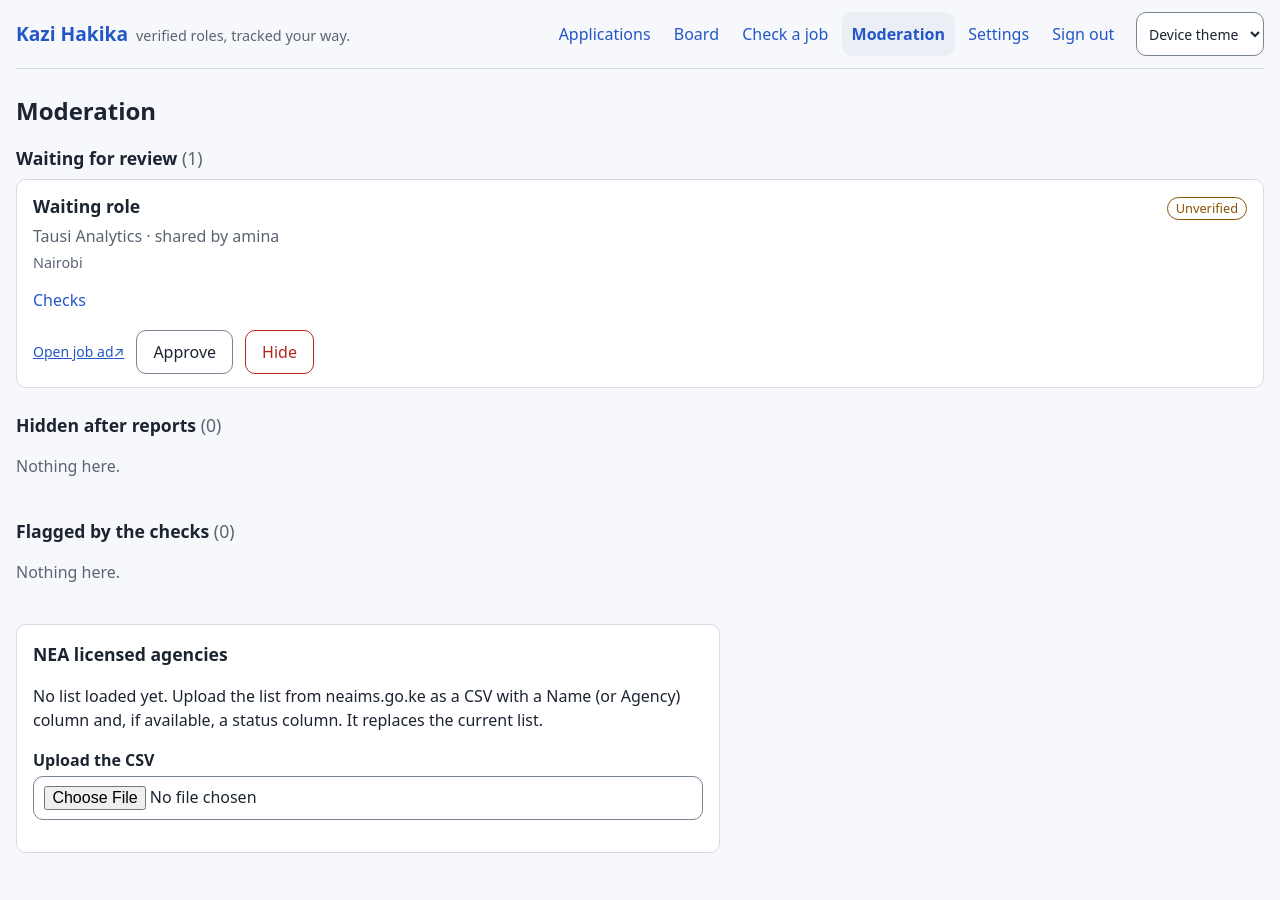
Test case: moderation › lets an admin approve a waiting post
Expected: the link "Moderation" is shown, [842, 12, 955, 56]
What coordinates should you click on to do the following:
click the button "Approve"
I would click on:
 (185, 352)
Its box is [136, 330, 233, 374].
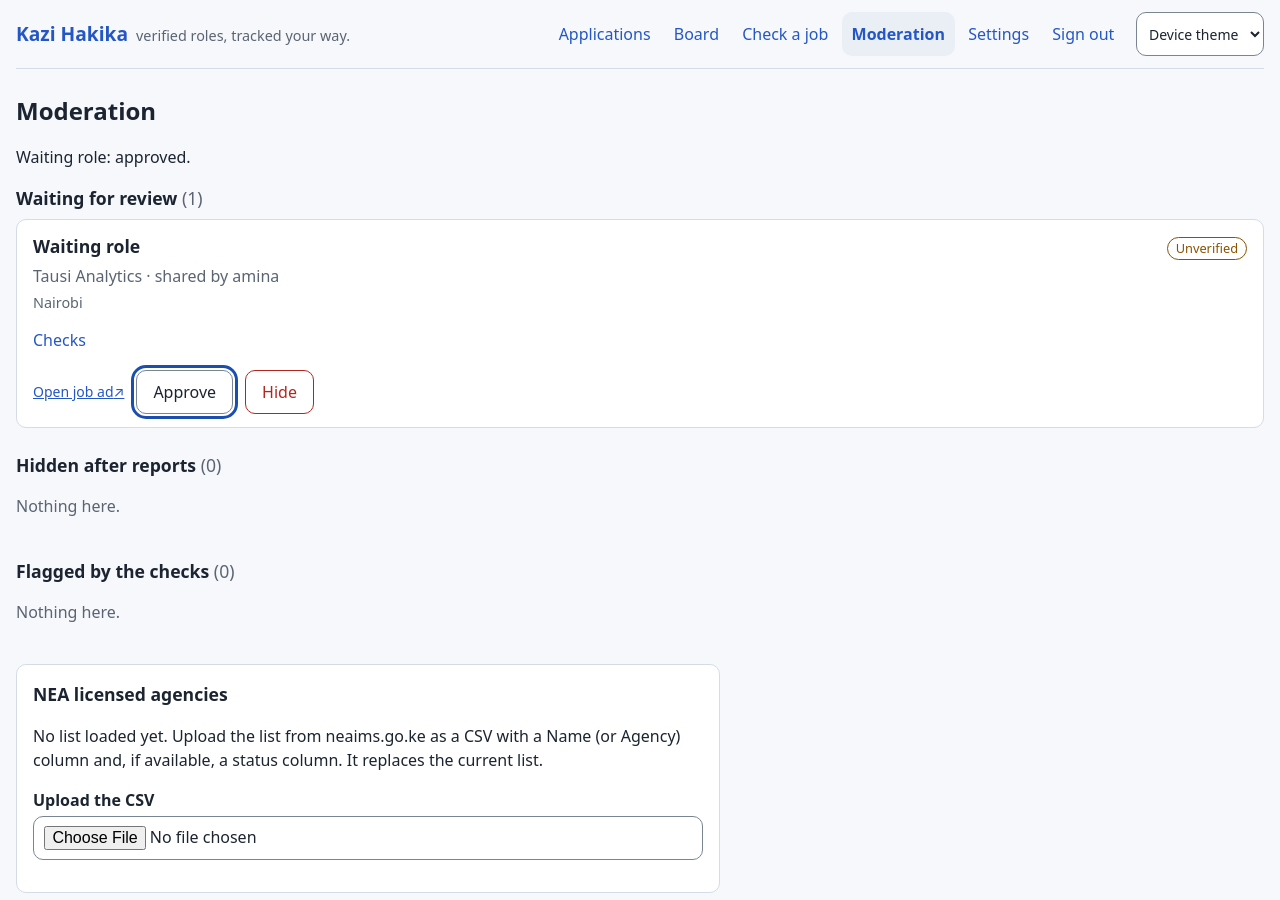
Expected: the text "No list loaded yet" is shown, [33, 725, 164, 747]
Expected: the text "Waiting role: approved." is shown, [16, 146, 191, 168]
